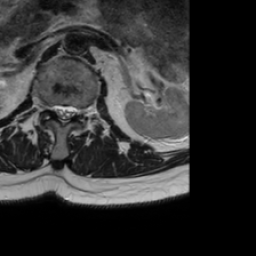CCS_normal: (61, 95, 69, 133)
LFS_normal: (77, 97, 86, 124)
LLS_normal: (69, 96, 77, 124)
RFS_stenosis: (44, 92, 53, 117)
RLS_normal: (53, 96, 61, 123)
